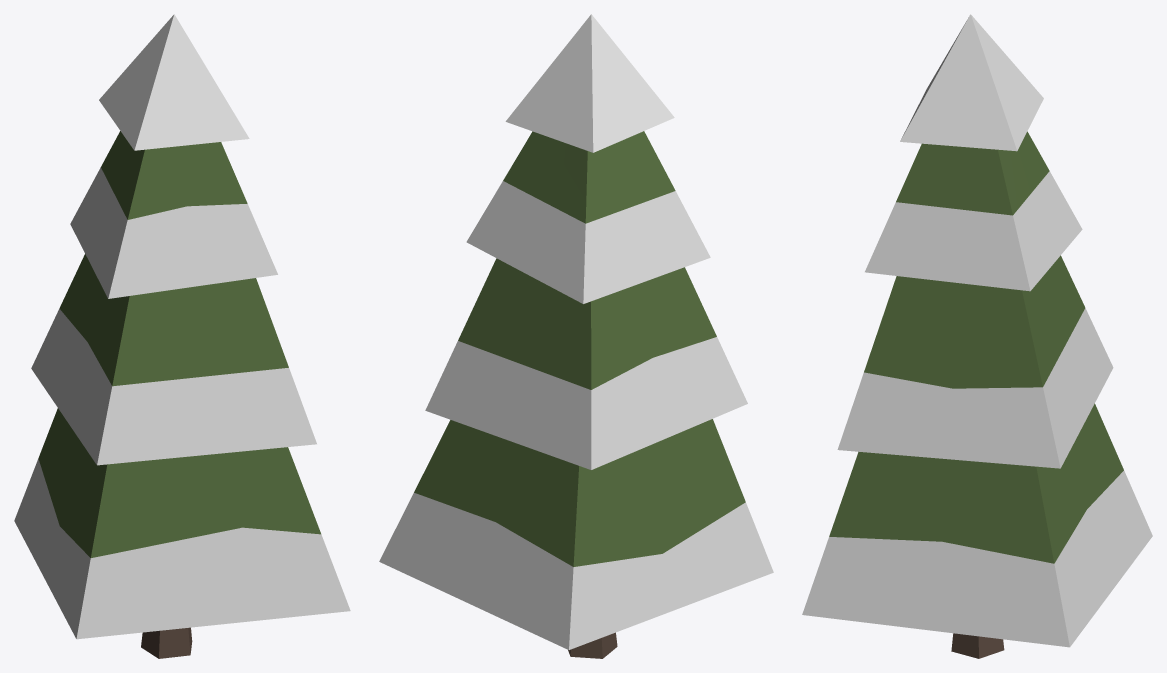
File: tree-spruce-snow02.fbx
3 renders of one model, left to right at view 1: azimuth 30°, elevation 25°; view 2: azimuth 150°, elevation 25°; view 3: azimuth 270°, elevation 25°, orthographic.
Visible parts, largest first — view 1: tree-spruce-snow02; view 2: tree-spruce-snow02; view 3: tree-spruce-snow02.
Part boxes in pixels (bbox=[...]): tree-spruce-snow02: bbox=[14, 14, 350, 658]; tree-spruce-snow02: bbox=[379, 14, 773, 658]; tree-spruce-snow02: bbox=[802, 14, 1152, 658].
Bounding box in the file's own units: 2.91 × 2.9 × 5.79.
